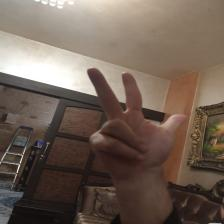three: (84, 65, 188, 172)
